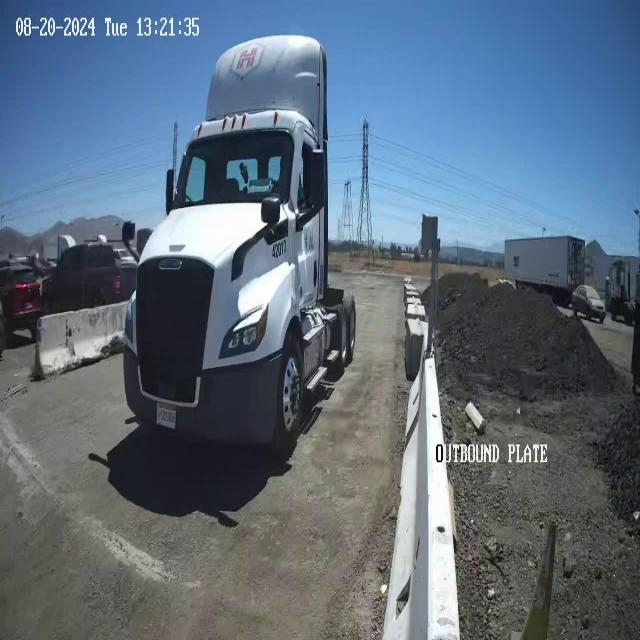TRUCK_OUT: (122, 33, 356, 459)
